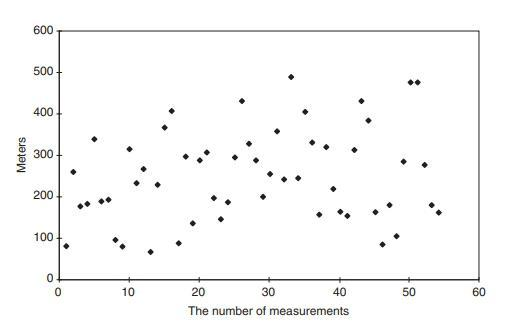axis: (55, 275, 483, 284), (54, 28, 64, 285)
point: (426, 200, 438, 210), (68, 167, 78, 177), (399, 157, 409, 167), (209, 194, 220, 203), (237, 96, 248, 105), (286, 72, 297, 81), (349, 146, 360, 155), (363, 116, 374, 125), (356, 96, 367, 105), (215, 215, 227, 223), (159, 124, 171, 132), (131, 178, 141, 187), (230, 153, 240, 162), (265, 169, 275, 178), (258, 192, 268, 201), (273, 127, 283, 136), (300, 107, 310, 116), (314, 210, 324, 219), (385, 200, 394, 210), (377, 240, 387, 249), (420, 160, 430, 169), (119, 241, 127, 252), (173, 239, 184, 247), (244, 140, 255, 148), (413, 78, 424, 86), (90, 135, 99, 144), (139, 165, 148, 174), (181, 152, 190, 161), (280, 175, 289, 184), (294, 173, 303, 182), (322, 143, 331, 152), (343, 212, 352, 221), (392, 232, 401, 241), (405, 78, 414, 87), (76, 201, 84, 211), (61, 243, 71, 251), (145, 248, 155, 256), (167, 107, 177, 115), (434, 209, 444, 217), (188, 220, 199, 227), (105, 195, 113, 204), (111, 235, 119, 244), (195, 156, 204, 164), (252, 156, 261, 164), (309, 139, 318, 147), (329, 185, 338, 193), (371, 208, 380, 216), (124, 145, 134, 152), (97, 198, 105, 206), (154, 181, 162, 189), (224, 198, 232, 206), (203, 149, 212, 156), (336, 208, 345, 215), (84, 200, 91, 208)
